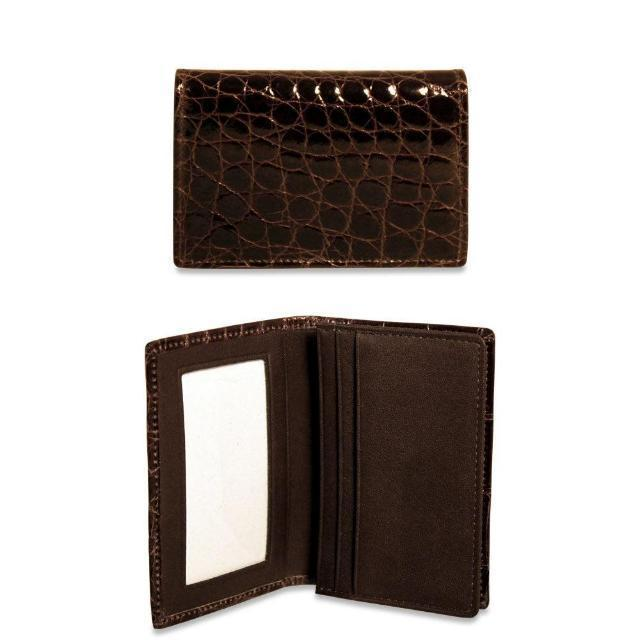wallet: (138, 310, 494, 628), (169, 63, 475, 273)
